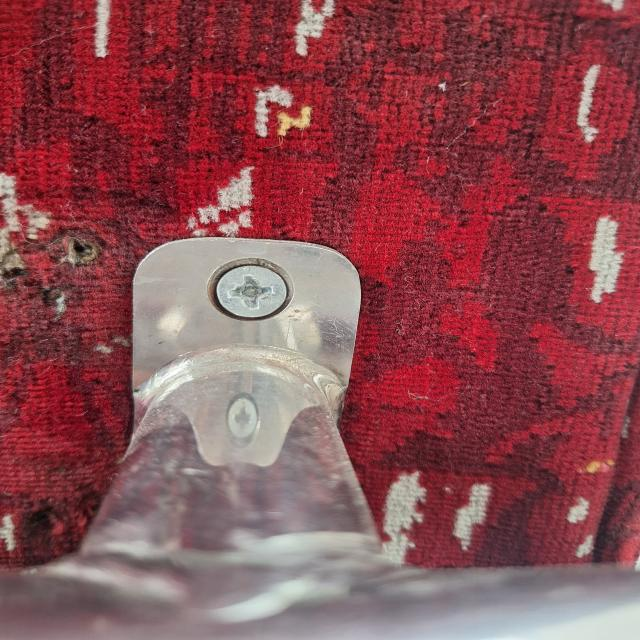Phillips: (211, 267, 293, 319)
